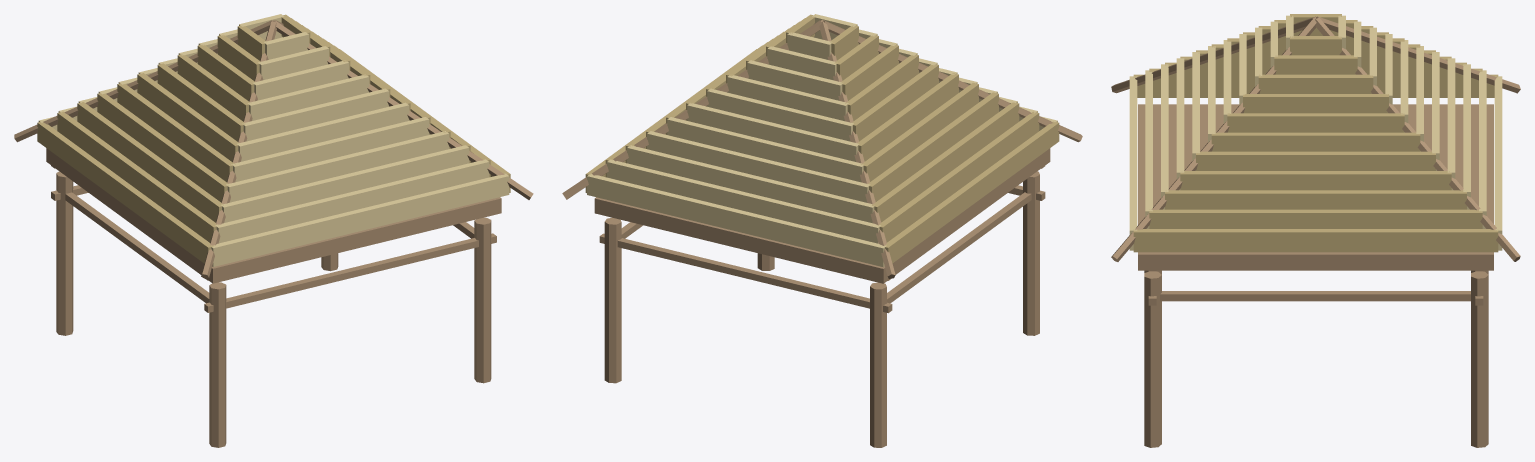
Rendered from storehouse.glb.
The picture shows the model from 3 angles, left to right: view 1: azimuth 30°, elevation 25°; view 2: azimuth 150°, elevation 25°; view 3: azimuth 270°, elevation 25°; orthographic projection. The views are drawn at different scales.
Parts seen in each view (by area): view 1: part12, part18, part22, part26, part30, part19, part23, part34, part27, part38, part31, part1 (+19 smaller); view 2: part12, part17, part21, part25, part29, part19, part23, part33, part27, part37, part31, part2 (+19 smaller); view 3: part12, part20, part24, part28, part32, part36, part40, part44, part7, part2, part3, part48 (+35 smaller).
Boxes of the visible parts, x1,y1,x2,y2 form: part12: (46,148,501,283); part18: (211,173,509,266); part22: (215,159,489,243); part26: (221,145,469,222); part30: (226,131,449,202); part19: (37,121,213,263); part23: (57,111,218,242); part34: (231,117,429,182); part27: (77,102,223,222); part38: (237,102,409,161); part31: (97,93,228,202); part1: (209,282,226,447); part12: (594,148,1050,283); part17: (587,173,886,266); part21: (607,159,880,243); part25: (627,145,874,223); part29: (647,131,870,202); part19: (885,121,1059,263); part23: (877,111,1039,242); part33: (667,117,863,182); part27: (872,102,1019,222); part37: (687,103,859,161); part31: (867,92,998,201); part2: (604,217,621,383); part12: (1138,104,1493,270); part20: (1133,229,1498,252); part24: (1149,209,1482,228); part28: (1165,190,1466,209); part32: (1180,171,1451,190); part36: (1196,151,1435,170); part40: (1211,132,1420,151); part44: (1227,113,1404,132); part7: (1160,291,1470,301); part2: (1471,271,1488,447); part3: (1144,271,1161,447); part48: (1243,94,1388,113).
Bounding box in the file's own units: 7.03 × 6.77 × 7.02.
